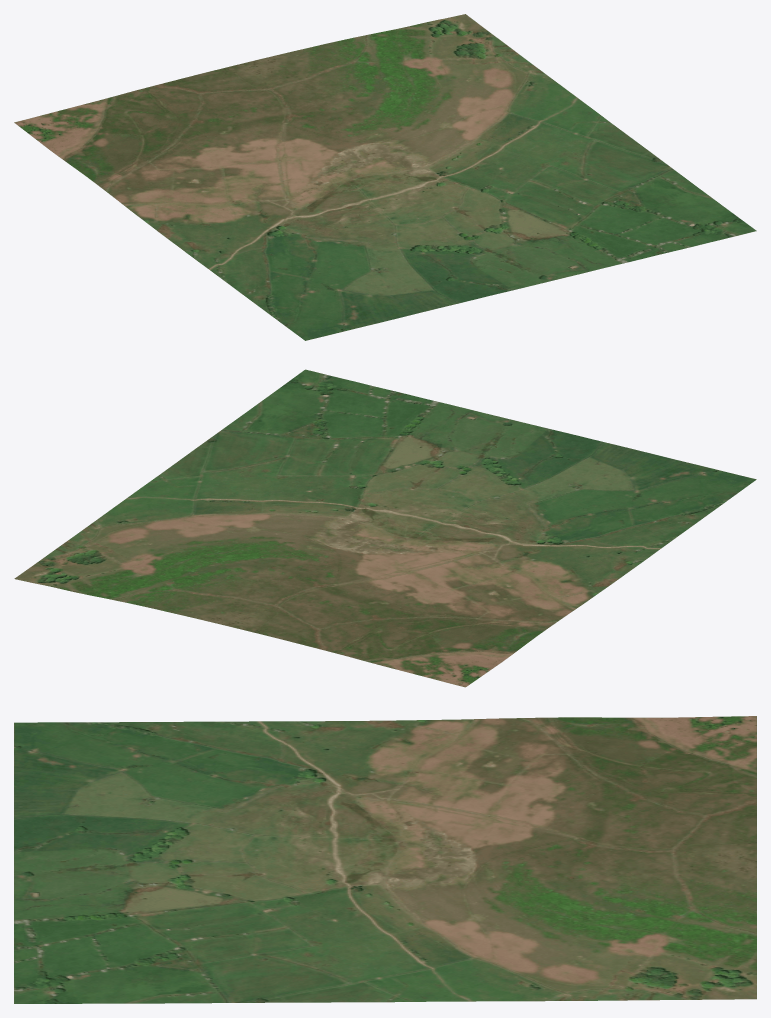
The model's file is edale.glb.
3 views of the same model, one above another, from view 1: azimuth 30°, elevation 25°; view 2: azimuth 150°, elevation 25°; view 3: azimuth 270°, elevation 25° (orthographic). The views are drawn at different scales.
Parts seen in each view (by area): view 1: Object_4; view 2: Object_4; view 3: Object_4.
Boxes of the visible parts, bbox=[...] form: Object_4: bbox=[14, 14, 756, 340]; Object_4: bbox=[14, 369, 756, 687]; Object_4: bbox=[14, 716, 756, 1003].
Bounding box in the file's own units: 215 × 4.01 × 240.
1 material, 1 textured.
